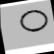no answer: (15, 6, 51, 36)
